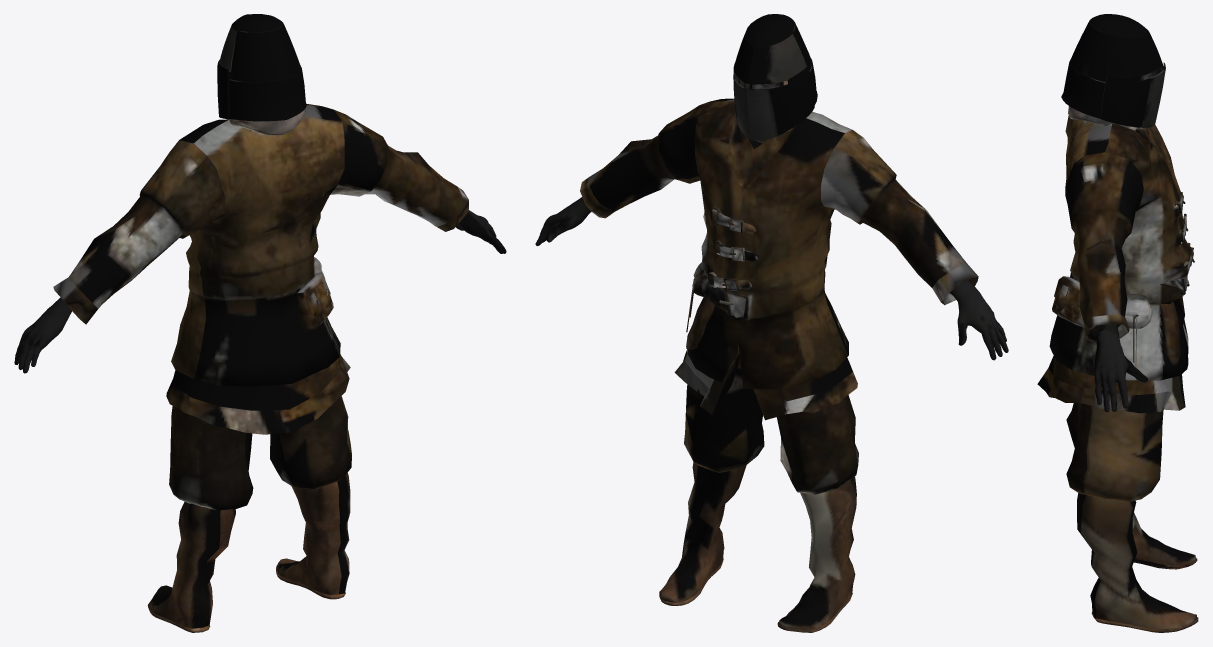
The picture shows the model from 3 angles, left to right: view 1: azimuth 30°, elevation 25°; view 2: azimuth 150°, elevation 25°; view 3: azimuth 270°, elevation 25°; orthographic projection. The views are drawn at different scales.
Parts seen in each view (by area): view 1: mesh_0; view 2: mesh_0; view 3: mesh_0.
Part boxes in pixels (<box>): mesh_0: <box>14,14,506,632</box>; mesh_0: <box>535,14,1008,632</box>; mesh_0: <box>1037,14,1198,632</box>.
Bounding box in the file's own units: 62.12 × 73.51 × 18.61.
Materials: 1 (1 with a texture image).
